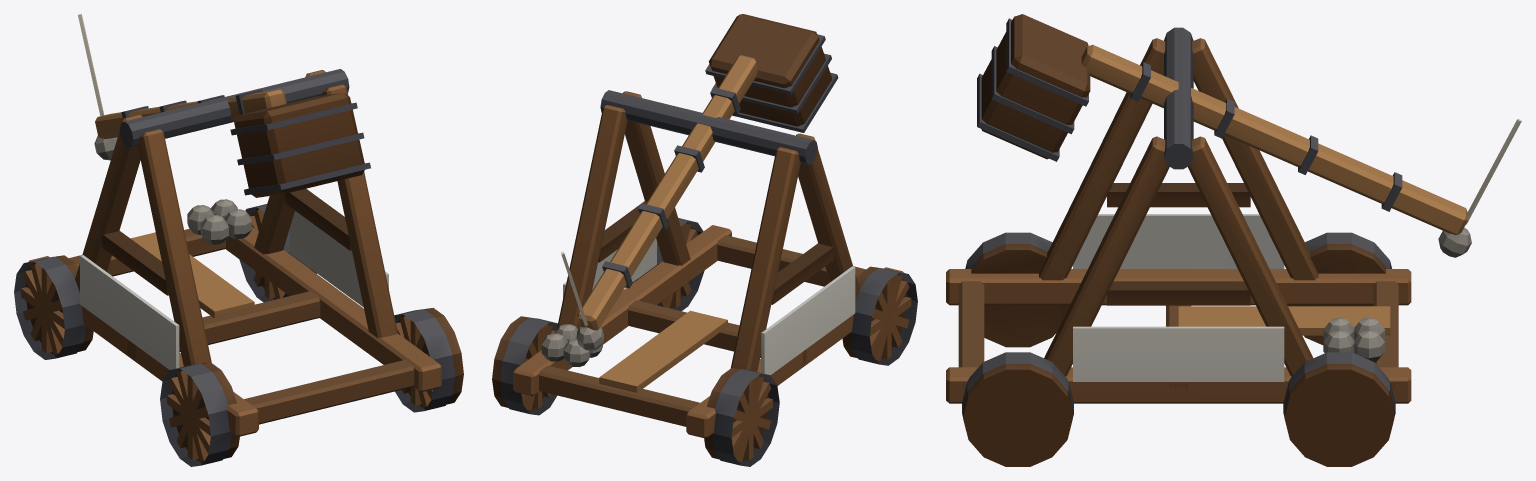
File: boss_trebuchet.glb
3 views of the same model, side by side, from view 1: azimuth 30°, elevation 25°; view 2: azimuth 150°, elevation 25°; view 3: azimuth 270°, elevation 25° (orthographic). The views are drawn at different scales.
Visible parts, largest first — view 1: boss_trebuchet, arm, Primary, wheel0, wheel2, wheel1, wheel3; view 2: boss_trebuchet, arm, wheel2, wheel0, Primary, wheel3, wheel1; view 3: boss_trebuchet, arm, Primary, wheel3, wheel1, wheel0, wheel2.
Part boxes in pixels (x1=…): boss_trebuchet: x1=29, y1=69, x2=441, y2=436; arm: x1=78, y1=14, x2=370, y2=197; Primary: x1=80, y1=211, x2=388, y2=369; wheel0: x1=160, y1=362, x2=239, y2=466; wheel2: x1=14, y1=255, x2=93, y2=359; wheel1: x1=394, y1=307, x2=463, y2=412; wheel3: x1=239, y1=204, x2=316, y2=302; boss_trebuchet: x1=513, y1=90, x2=903, y2=438; arm: x1=561, y1=14, x2=838, y2=350; wheel2: x1=704, y1=368, x2=779, y2=466; wheel0: x1=842, y1=266, x2=917, y2=365; Primary: x1=563, y1=238, x2=855, y2=374; wheel3: x1=492, y1=316, x2=557, y2=415; wheel1: x1=632, y1=218, x2=704, y2=310; boss_trebuchet: x1=946, y1=27, x2=1411, y2=403; arm: x1=977, y1=14, x2=1521, y2=257; Primary: x1=1073, y1=214, x2=1284, y2=381; wheel3: x1=1283, y1=352, x2=1395, y2=466; wheel1: x1=962, y1=352, x2=1073, y2=466; wheel0: x1=965, y1=232, x2=1069, y2=347; wheel2: x1=1287, y1=232, x2=1391, y2=344.
Bounding box in the file's own units: 0.762 × 0.9464 × 1.36.
